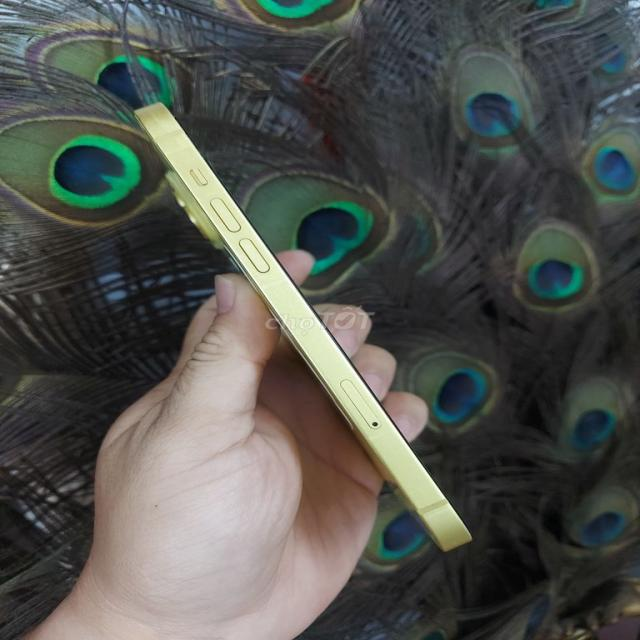gen_14: (134, 81, 492, 562)
